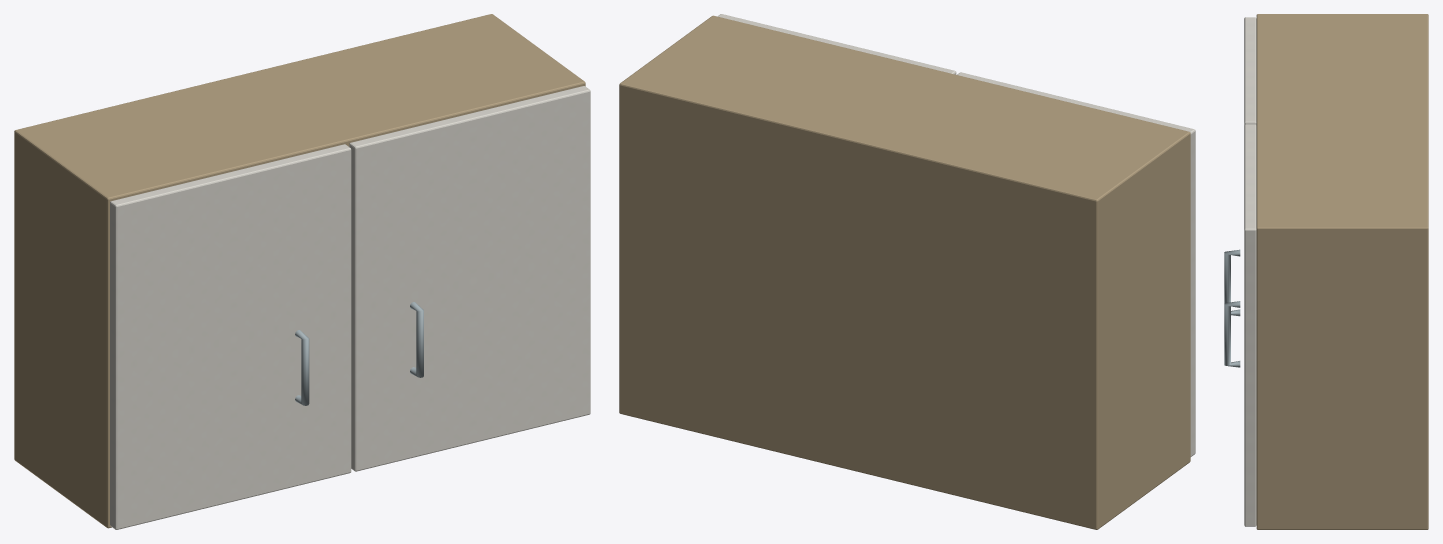
Rendered from OAA_Pantry_Kabinet_Dinding_1m.fbx.
The picture shows the model from 3 angles, left to right: view 1: azimuth 30°, elevation 25°; view 2: azimuth 150°, elevation 25°; view 3: azimuth 270°, elevation 25°; orthographic projection. The views are drawn at different scales.
Visible parts, largest first — view 1: Body; view 2: Body; view 3: Body.
Part boxes in pixels (x1,y1,x2,y2): Body: (14, 14, 590, 529); Body: (619, 14, 1195, 529); Body: (1224, 14, 1428, 529).
Bounding box in the file's own units: 1 × 0.66 × 0.4039.
